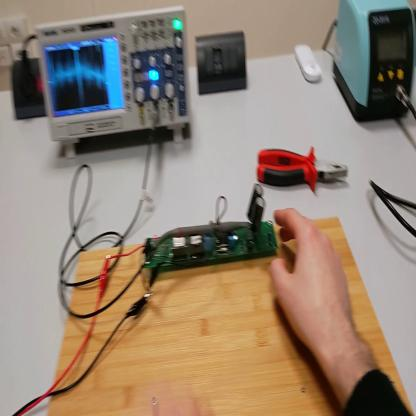hand: (271, 206, 356, 359)
high voltage board: (106, 182, 276, 290)
oscilloscope: (41, 6, 190, 168)
pliers: (256, 144, 349, 202)
socket: (11, 56, 48, 121)
welder station: (335, 2, 415, 122)
working area: (49, 212, 411, 415)
